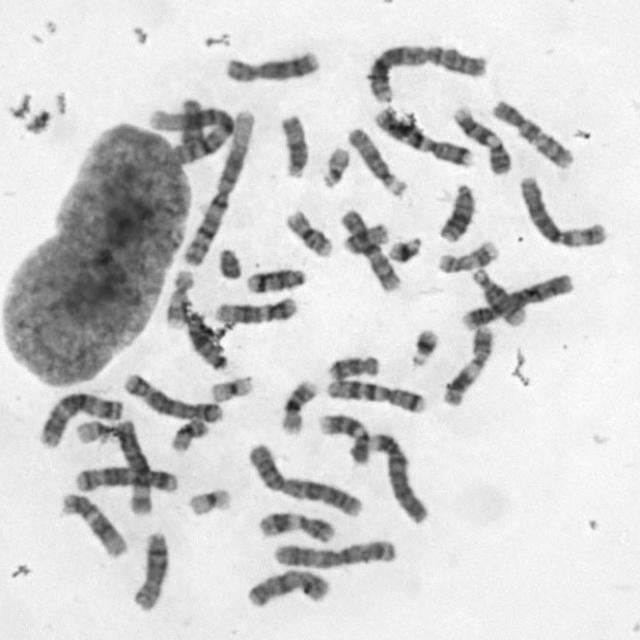A1: (178, 104, 256, 268), (146, 101, 236, 164)
A2: (242, 439, 366, 520), (361, 39, 489, 104)
A3: (34, 387, 124, 449), (270, 536, 399, 570)
B4: (457, 268, 575, 332), (364, 428, 430, 525)
B5: (121, 369, 224, 425), (72, 464, 180, 494)
C10: (488, 96, 574, 170), (337, 206, 402, 294)
C11: (437, 322, 495, 408), (254, 508, 336, 544)
C12: (58, 488, 128, 558), (210, 294, 300, 324)
C6: (517, 172, 608, 249), (112, 417, 153, 517)
C7: (369, 104, 475, 169), (323, 376, 428, 414)
C8: (219, 48, 321, 86), (127, 527, 171, 612)
C9: (449, 102, 512, 176), (314, 410, 372, 466)
D13: (184, 314, 230, 372), (435, 181, 478, 243)
D14: (468, 265, 527, 326), (242, 264, 307, 295)
D15: (345, 124, 408, 199), (277, 112, 311, 181)
E16: (282, 206, 335, 259), (275, 376, 320, 436)
E17: (433, 237, 501, 275), (162, 266, 195, 332)
E18: (173, 94, 206, 149), (324, 352, 382, 382)
F19: (206, 372, 256, 404), (184, 486, 234, 518)
F20: (340, 219, 392, 253), (167, 414, 211, 454)
G21: (406, 324, 441, 369), (384, 232, 424, 264)
G22: (318, 143, 352, 190), (72, 417, 113, 446)
X: (242, 564, 333, 611)
Y: (214, 244, 243, 282)
